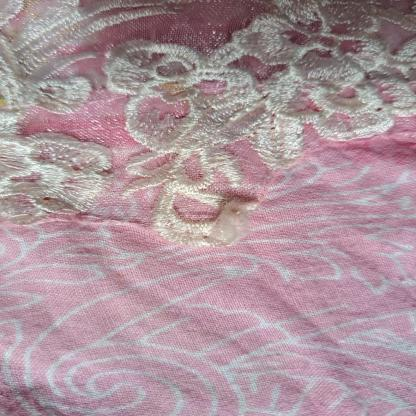spot: (157, 82, 192, 108), (115, 272, 129, 278)
